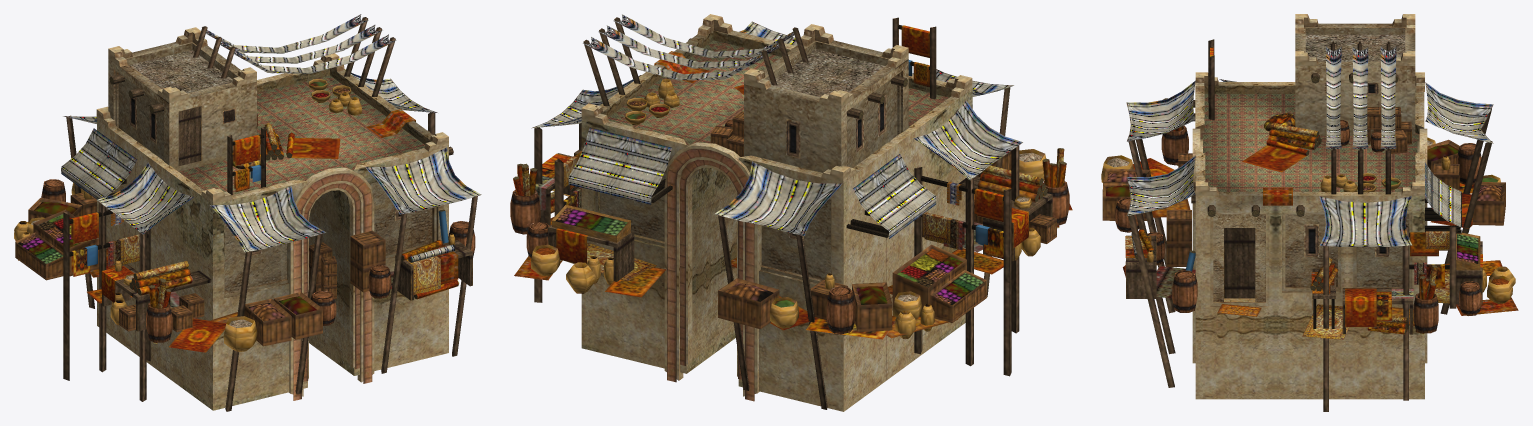
File: s_persians_market.glb
The picture shows the model from 3 angles, left to right: view 1: azimuth 30°, elevation 25°; view 2: azimuth 150°, elevation 25°; view 3: azimuth 270°, elevation 25°; orthographic projection. The views are drawn at different scales.
Parts seen in each view (by area): view 1: s_persians_market_part0, s_persians_market_part5, s_persians_market_part3, s_persians_market_part4, s_persians_market_part2, s_persians_market_part1; view 2: s_persians_market_part0, s_persians_market_part7, s_persians_market_part2, s_persians_market_part3, s_persians_market_part1, s_persians_market_part6, s_persians_market_part4; view 3: s_persians_market_part0, s_persians_market_part6, s_persians_market_part5, s_persians_market_part7, s_persians_market_part1, s_persians_market_part4, s_persians_market_part3, s_persians_market_part2.
Boxes of the visible parts, x1,y1,x2,y2 form: s_persians_market_part0: (61, 14, 481, 411); s_persians_market_part5: (350, 209, 475, 300); s_persians_market_part3: (87, 260, 211, 343); s_persians_market_part4: (169, 290, 336, 352); s_persians_market_part2: (14, 197, 114, 280); s_persians_market_part1: (27, 179, 96, 222); s_persians_market_part0: (531, 14, 1022, 411); s_persians_market_part7: (514, 204, 666, 297); s_persians_market_part2: (852, 244, 986, 338); s_persians_market_part3: (951, 148, 1069, 274); s_persians_market_part1: (718, 273, 894, 339); s_persians_market_part6: (510, 142, 581, 234); s_persians_market_part4: (974, 149, 1072, 210); s_persians_market_part0: (1126, 14, 1493, 411); s_persians_market_part6: (1302, 225, 1456, 339); s_persians_market_part5: (1123, 210, 1197, 312); s_persians_market_part7: (1434, 232, 1518, 315); s_persians_market_part1: (1430, 143, 1505, 228); s_persians_market_part4: (1101, 155, 1190, 232); s_persians_market_part3: (1161, 98, 1192, 167); s_persians_market_part2: (1427, 137, 1459, 173).
Size of the model in its own units: 5.65 by 4.02 by 5.15.
1 material, 1 textured.
